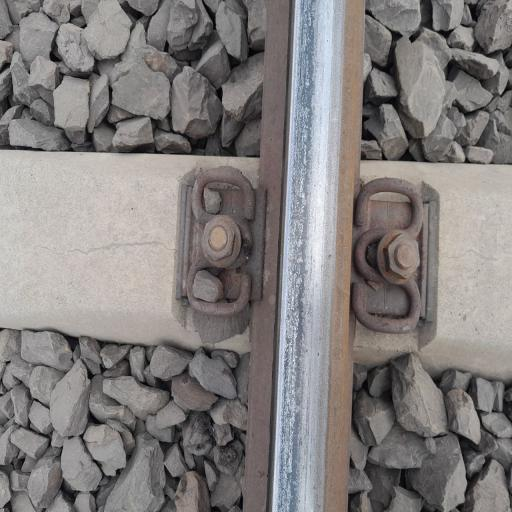bolt: (378, 223, 435, 293), (198, 212, 237, 275)
clip: (350, 160, 449, 344), (173, 159, 262, 324)
rail: (266, 15, 376, 375)
